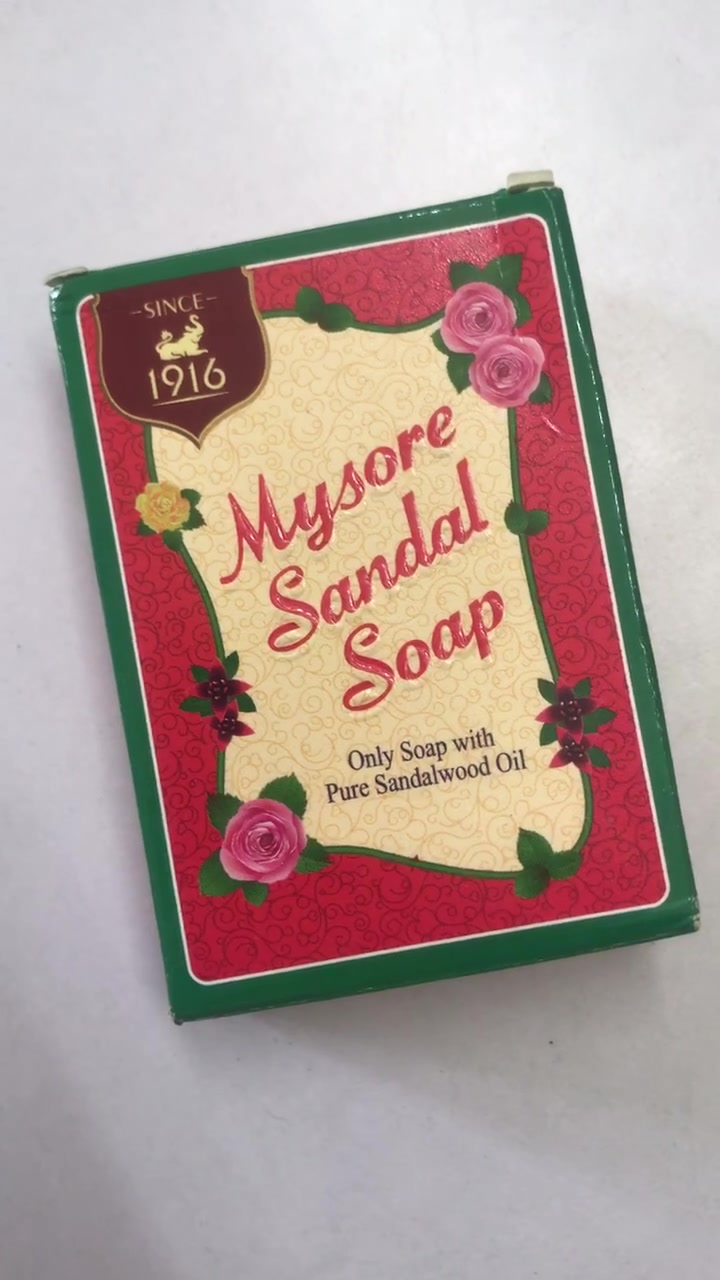mysore sandal soap: (45, 178, 708, 1030)
